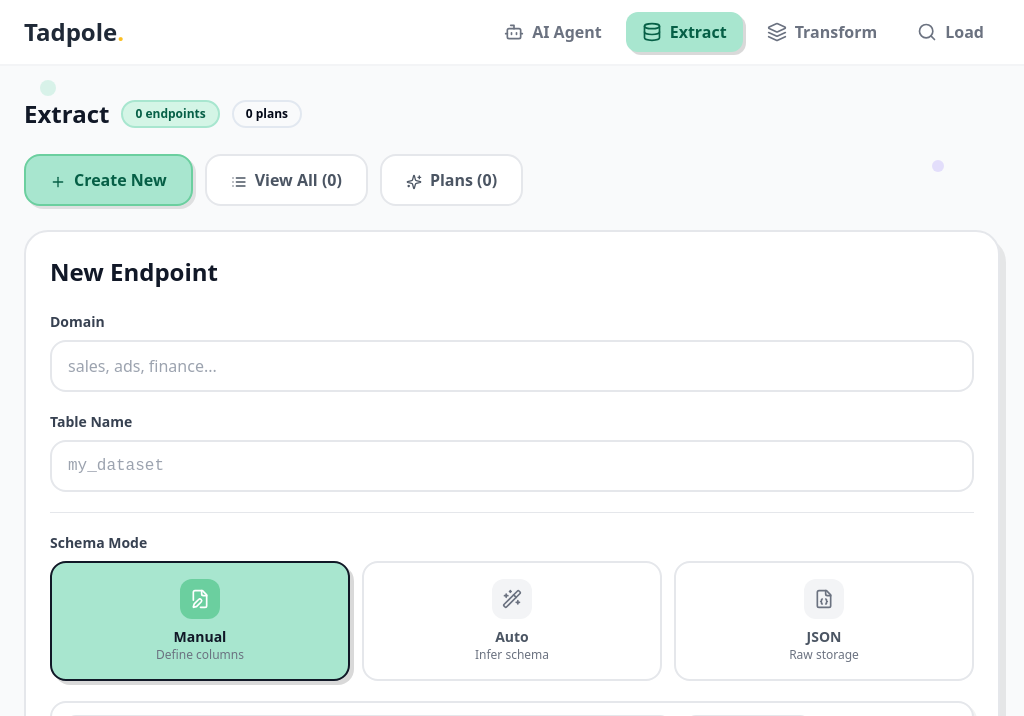
Scenario: Endpoint Creation Flow › shows validation error for invalid domain format
Type "123invalid" into the field with placeholder "sales, ads, finance...".
click(512, 366); type("123invalid")  # box [50,340,974,392]
(page scrolled)
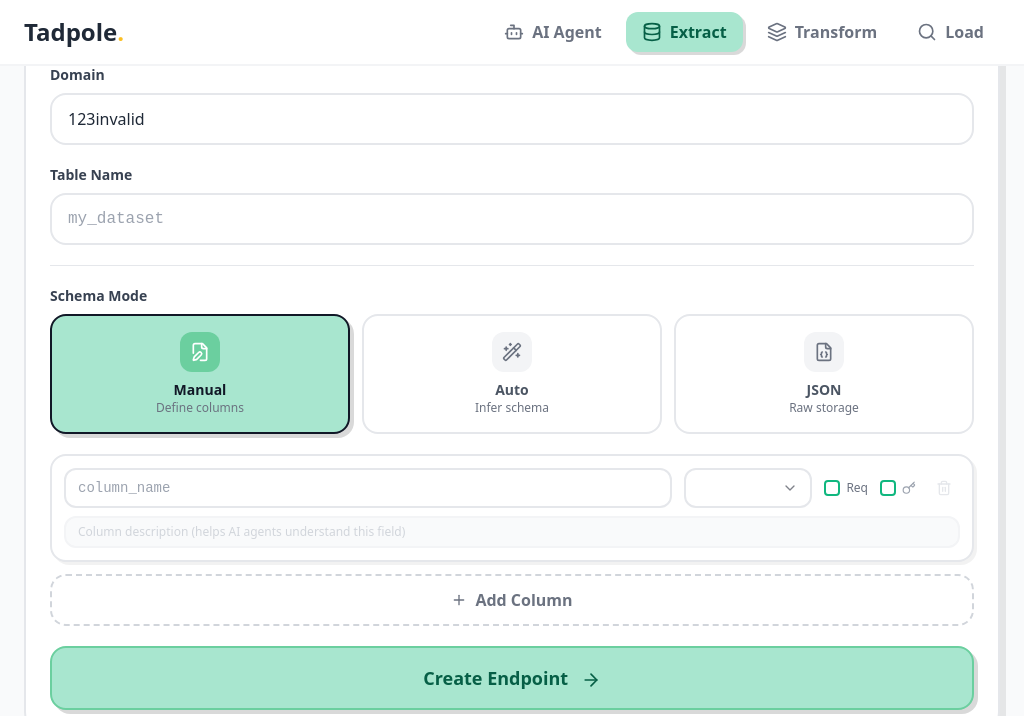
Click the button "Create Endpoint".
click(512, 678)  # box [50,646,974,710]
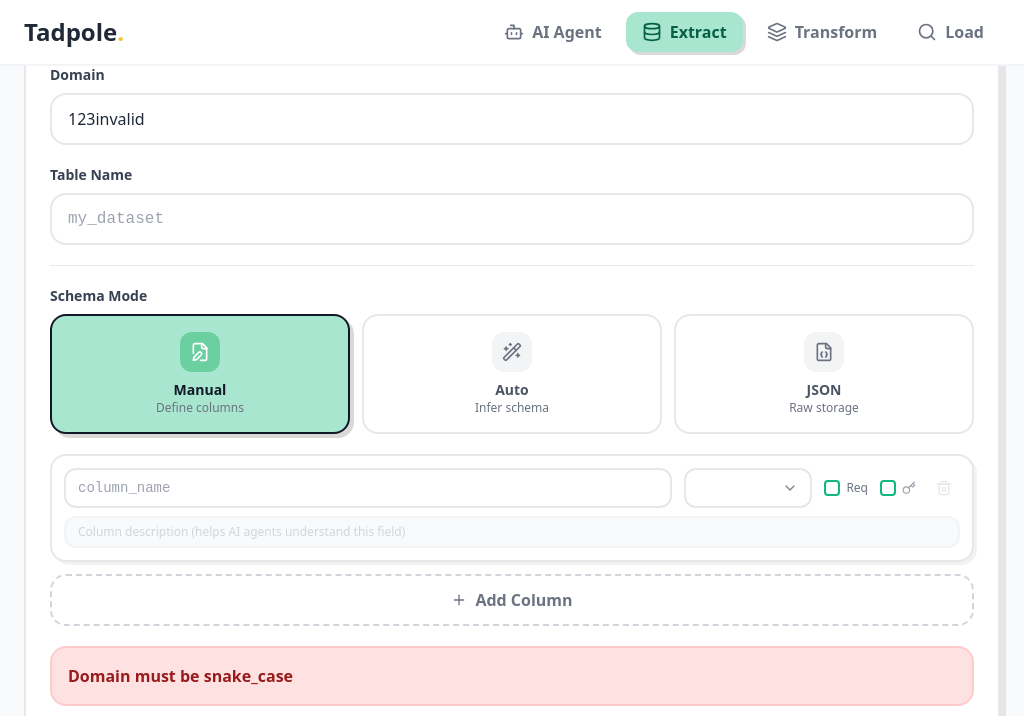
Expected: the text "Domain must be snake_case" is shown, [68,665,293,687]
